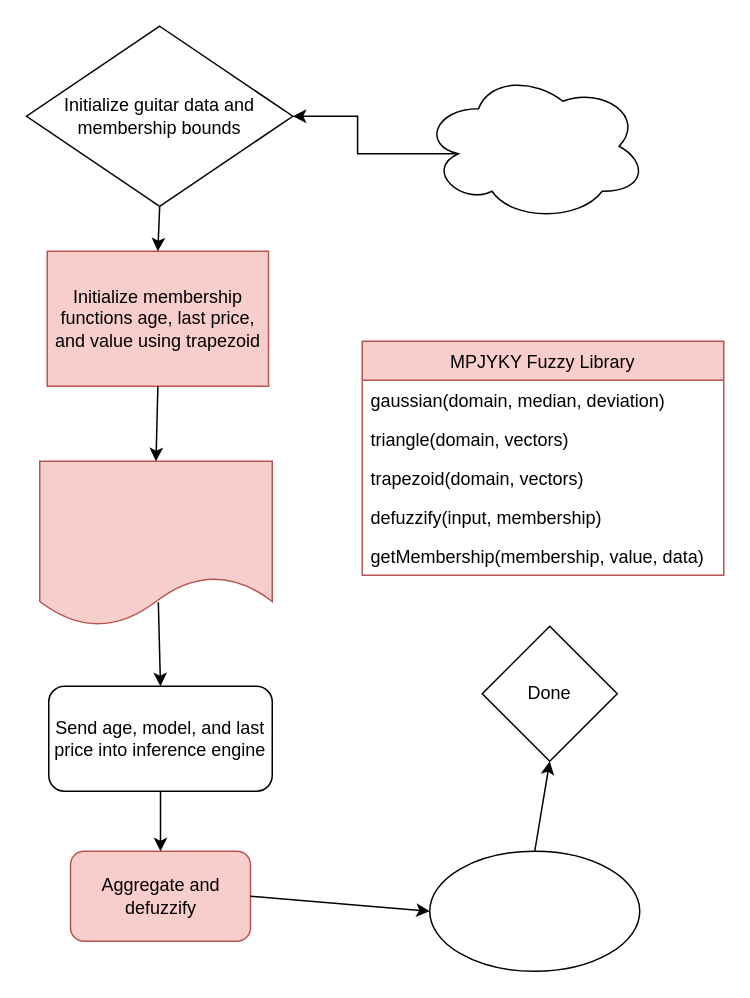
The diagram is 750 pixels wide and 998 high, and some of its shapes have lost their labels. The centre of each missing label's shape, as x and y in pixels:
guitar.py: point 534,145
Initialize membership function for model using triangle: point 155,543
Value = crisp result: point 534,910
